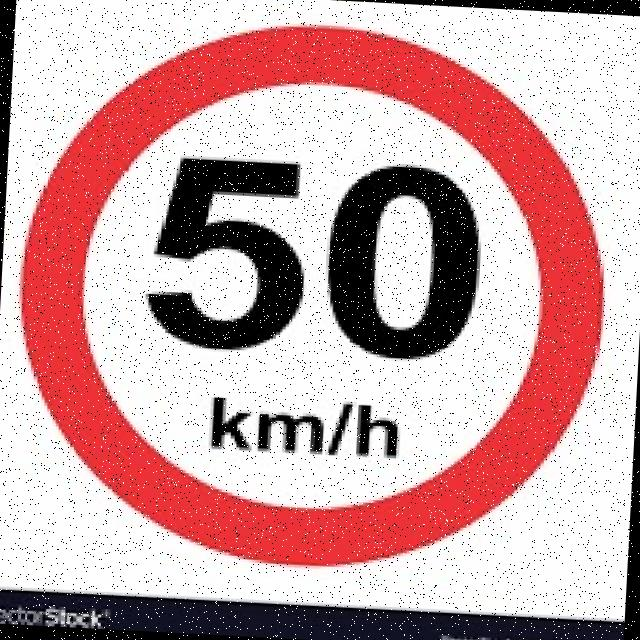speed_limit_50: (0, 0, 631, 590)
